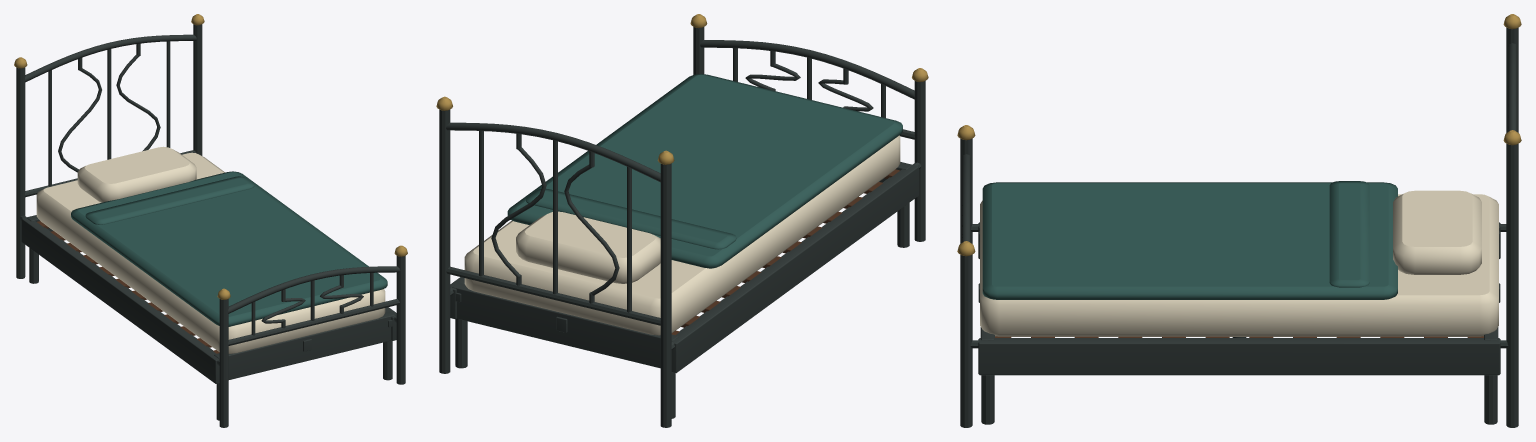
File: rpg-mansion-iron-scroll-single-bed-01.glb
3 views of the same model, side by side, from view 1: azimuth 30°, elevation 25°; view 2: azimuth 150°, elevation 25°; view 3: azimuth 270°, elevation 25° (orthographic). The views are drawn at different scales.
Parts seen in each view (by area): view 1: rpg-mansion-iron-scroll-single-bed-01; view 2: rpg-mansion-iron-scroll-single-bed-01; view 3: rpg-mansion-iron-scroll-single-bed-01.
Boxes of the visible parts, x1,y1,x2,y2 form: rpg-mansion-iron-scroll-single-bed-01: (14,14,407,427); rpg-mansion-iron-scroll-single-bed-01: (436,14,928,427); rpg-mansion-iron-scroll-single-bed-01: (957,14,1521,427).
Size of the model in its own units: 1.1 by 1.22 by 2.12.
